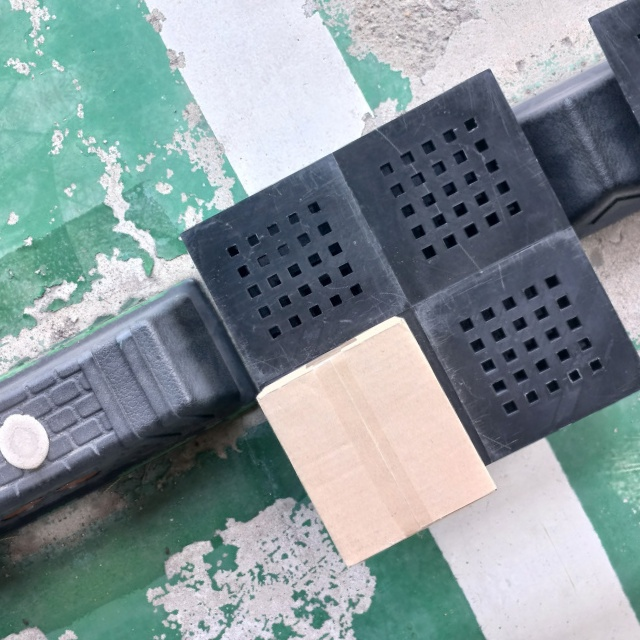box: (253, 314, 496, 571)
pallet: (167, 61, 640, 553)
